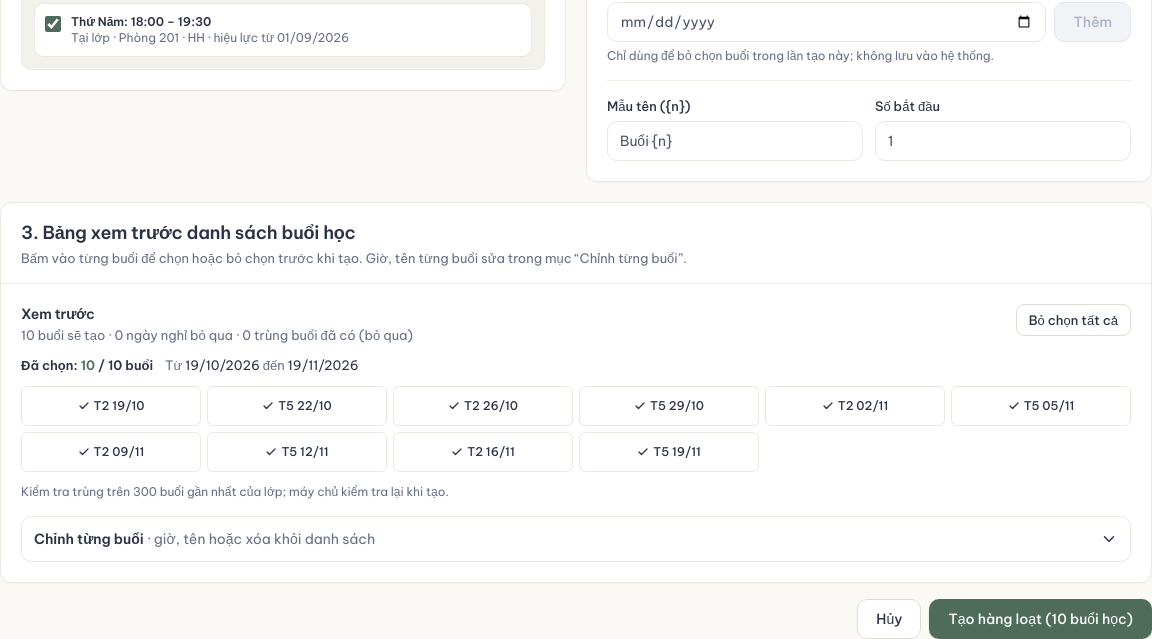
it: BatchSessionCreateWorkspace — design 17b preview › shows the server's created count, never the requested one
This screenshot has width=1152, height=639.
(page scrolled)
Click the button "Tạo hàng loạt (10 buổi học)" at (1041, 619), box 929,599 -> 1151,638
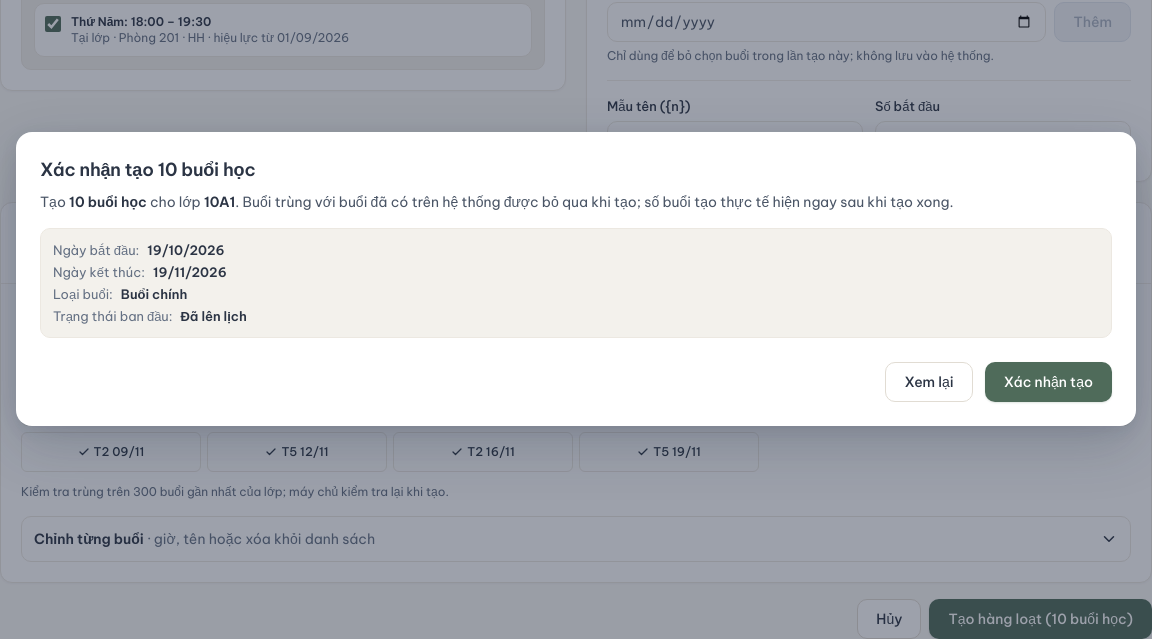
Click the button "Xác nhận tạo" at (1048, 382), box 985,362 -> 1112,402
(page scrolled)
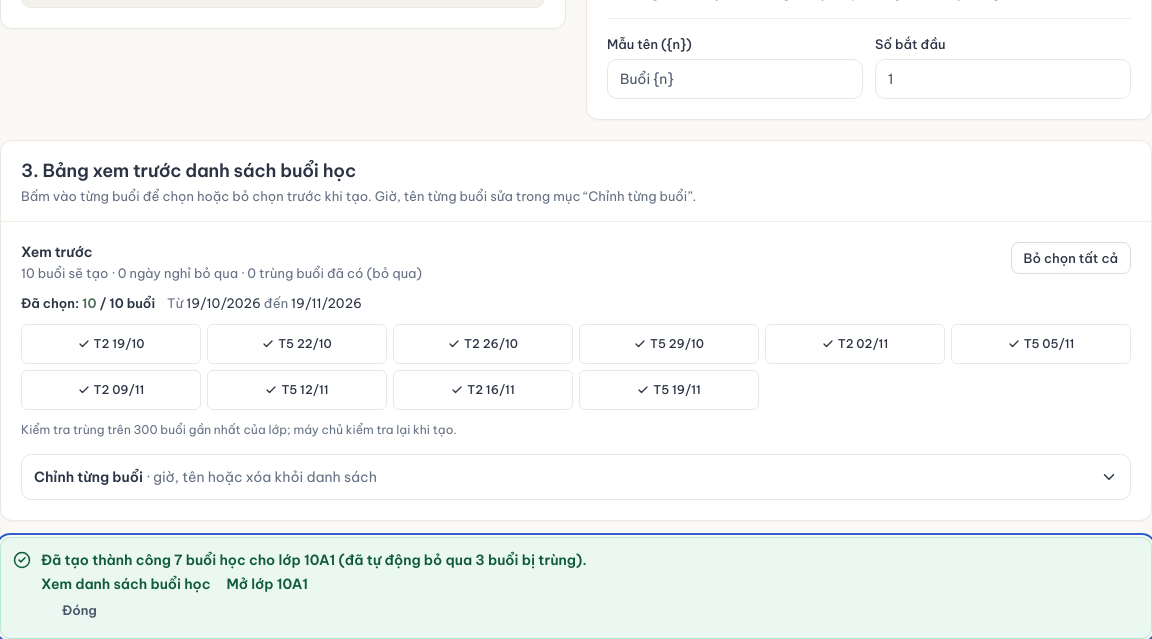
expect the text "Đã tạo thành công 7 buổi học cho lớp 10A1 (đã tự động bỏ qua 3 buổi bị trùng)." is shown: met, box 41,551 -> 587,569
